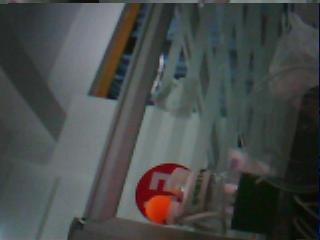oball: (145, 195, 170, 224)
